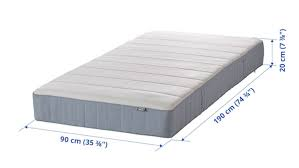bed-matress: (31, 29, 265, 140)
